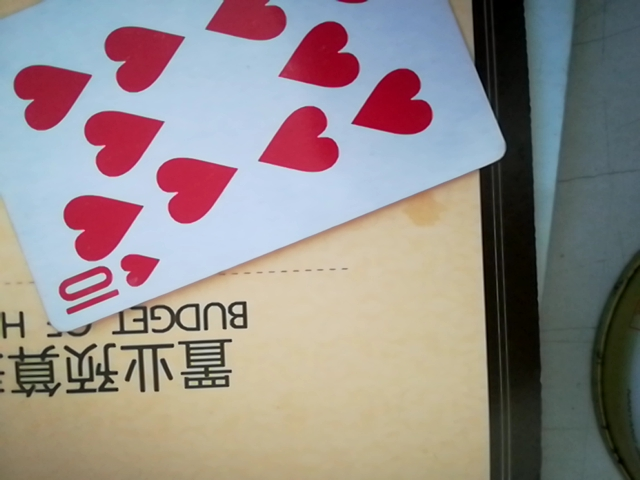hx 10: (0, 3, 501, 327)
